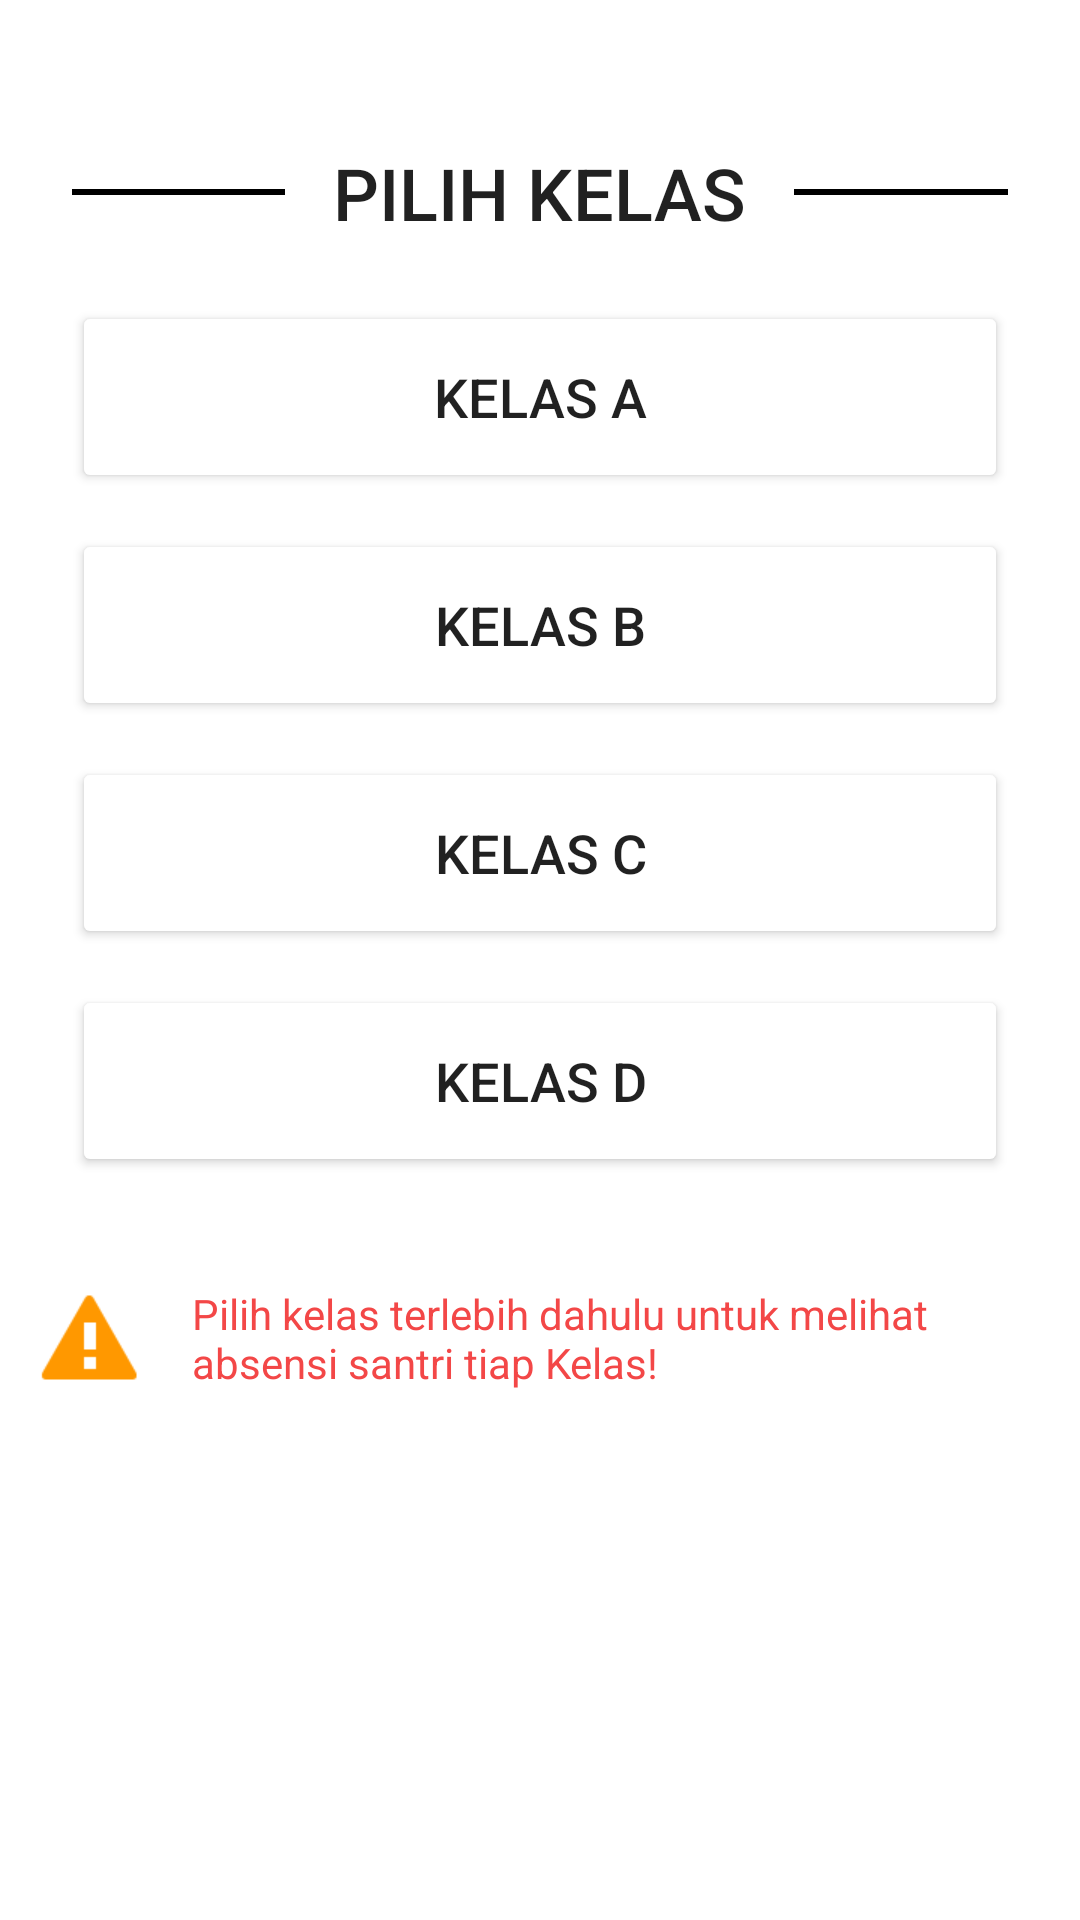

Locate icon controls on the screen. Image size 1080px x 1920px, boxes as (x1, y1, x2, y2).
warning: (41, 1295, 137, 1380)
